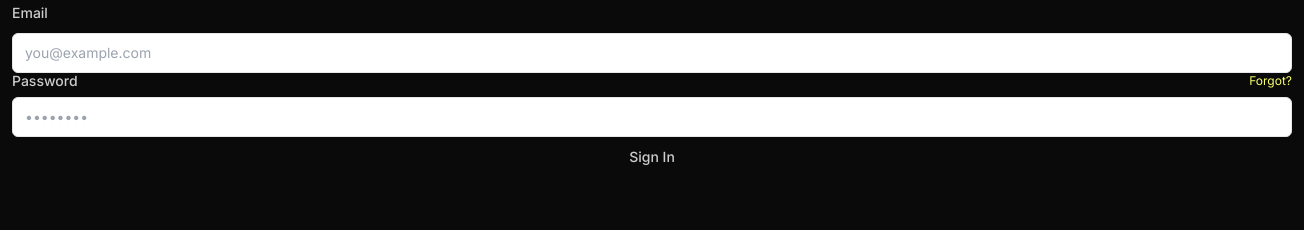
Test: SignInForm inline validation (#162) › clears a field error as soon as the value becomes valid
Submit the form
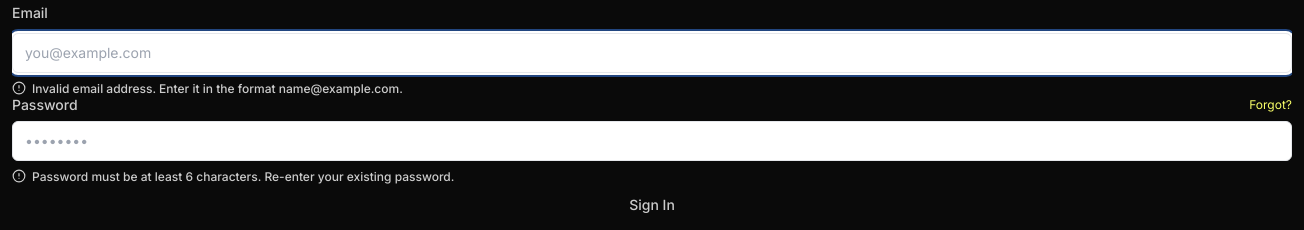
Type "user@example.com" into the field labelled "Email". click: (652, 53)
box: x1=12 y1=33 x2=1292 y2=73
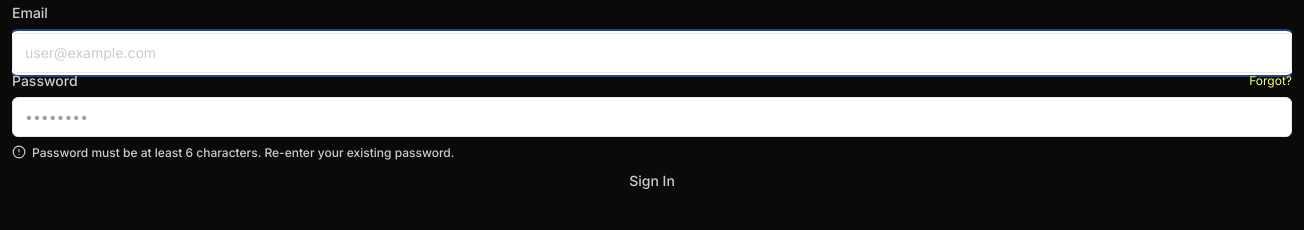
Check: the text "Invalid email address" is gone
